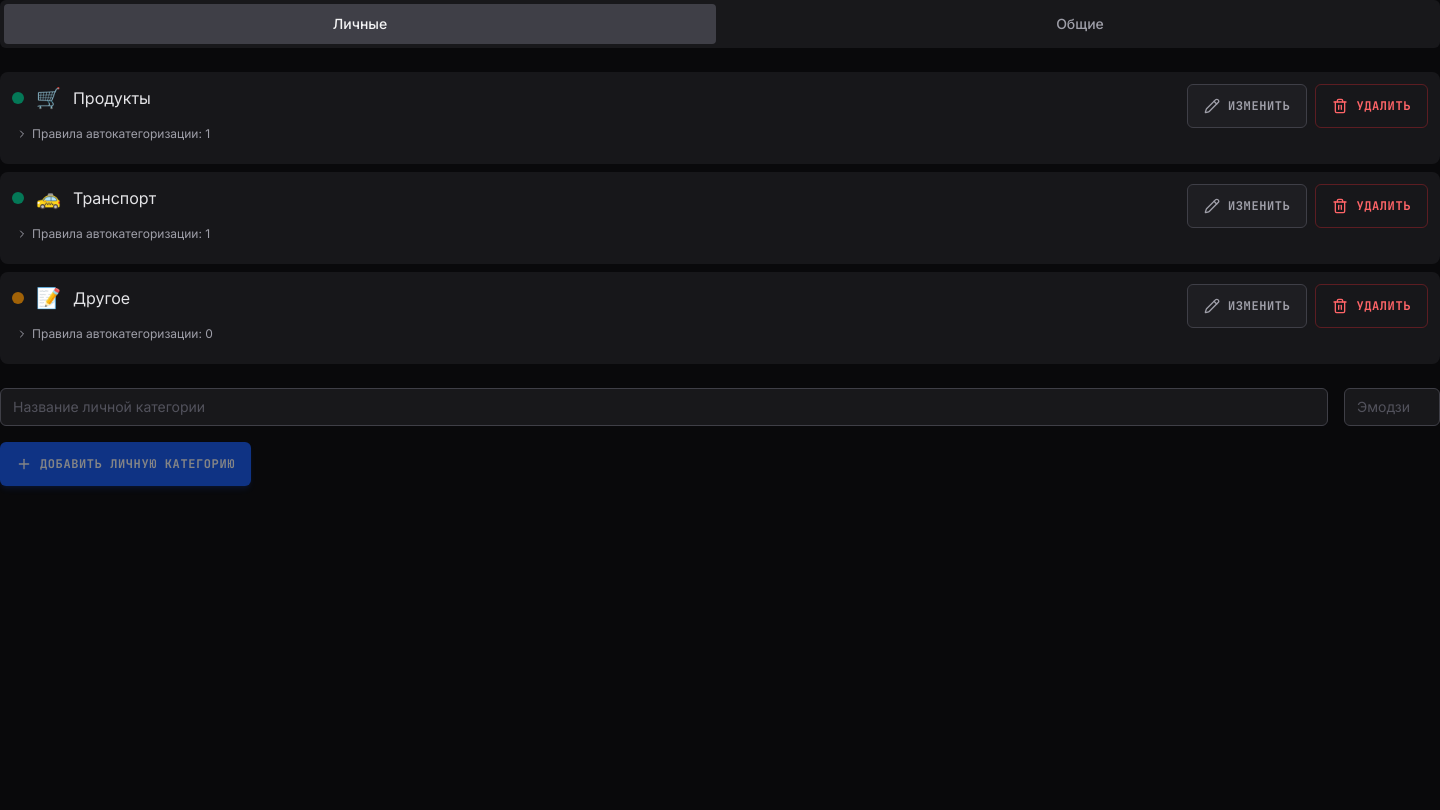
CategoryManager › shows a simple confirmation without a target select when empty
The width and height of the screenshot is (1440, 810).
Click the button with aria-label "Удалить Продукты": x=1372, y=106 [1315,84,1428,128]
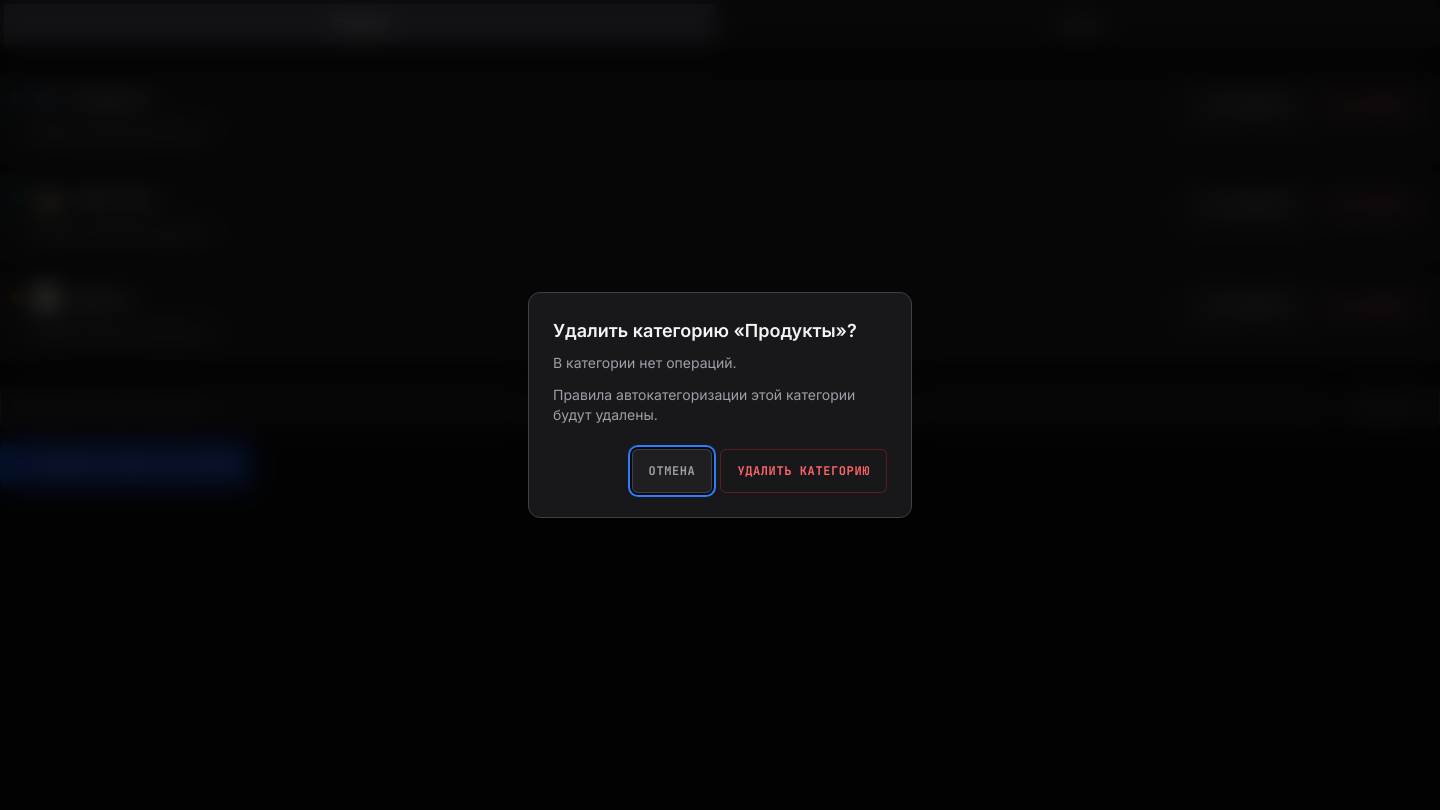
Check: the text "В категории нет операций." is shown, box [553,354,736,371]
Check: the text "Правила автокатегоризации этой категории будут удалены." is shown, box [553,385,887,425]
